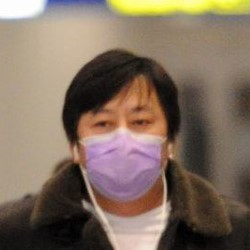mask: (70, 127, 170, 202)
